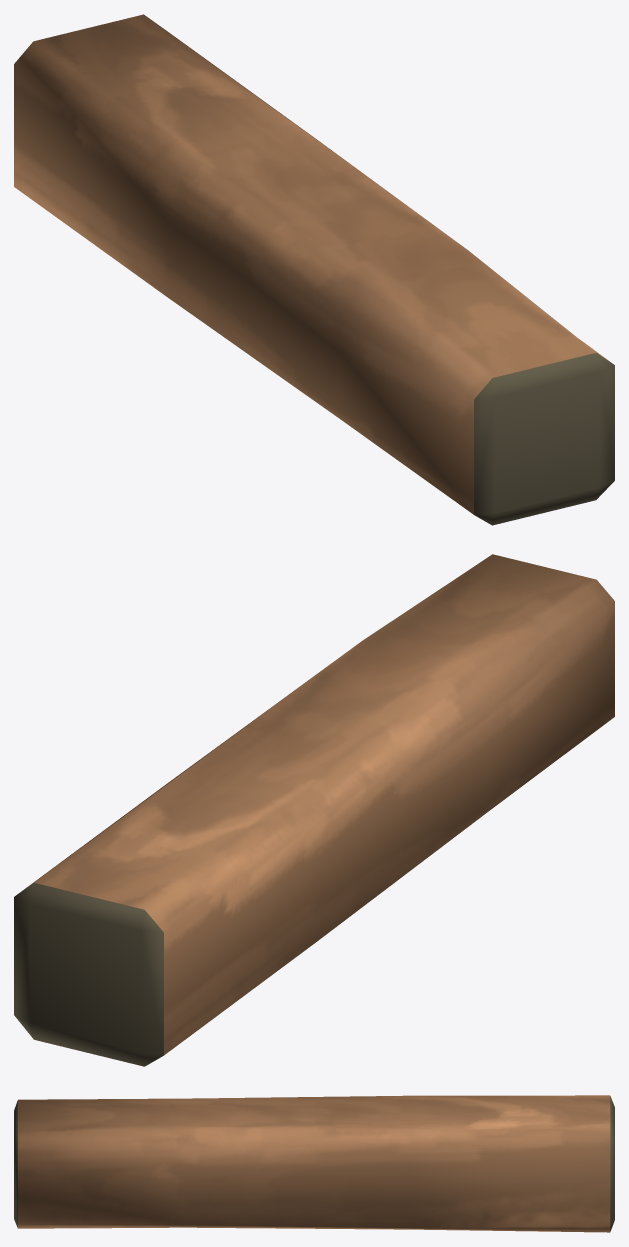
File: beamShortest.fbx
The picture shows the model from 3 angles, top to bottom: view 1: azimuth 30°, elevation 25°; view 2: azimuth 150°, elevation 25°; view 3: azimuth 270°, elevation 25°; orthographic projection. The views are drawn at different scales.
Parts seen in each view (by area): view 1: beamShort; view 2: beamShort; view 3: beamShort.
Part boxes in pixels (x1,y1,x2,y2): beamShort: (14, 14, 614, 525); beamShort: (14, 554, 614, 1066); beamShort: (14, 1095, 614, 1232).
Size of the model in its own units: 0.3005 by 0.3103 by 1.6.
